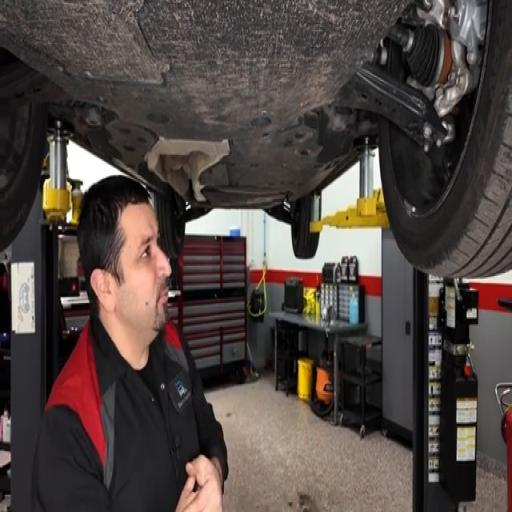tire: (380, 0, 511, 277), (0, 104, 47, 250), (154, 187, 185, 258), (291, 195, 319, 258)
wheel: (380, 0, 511, 277)
